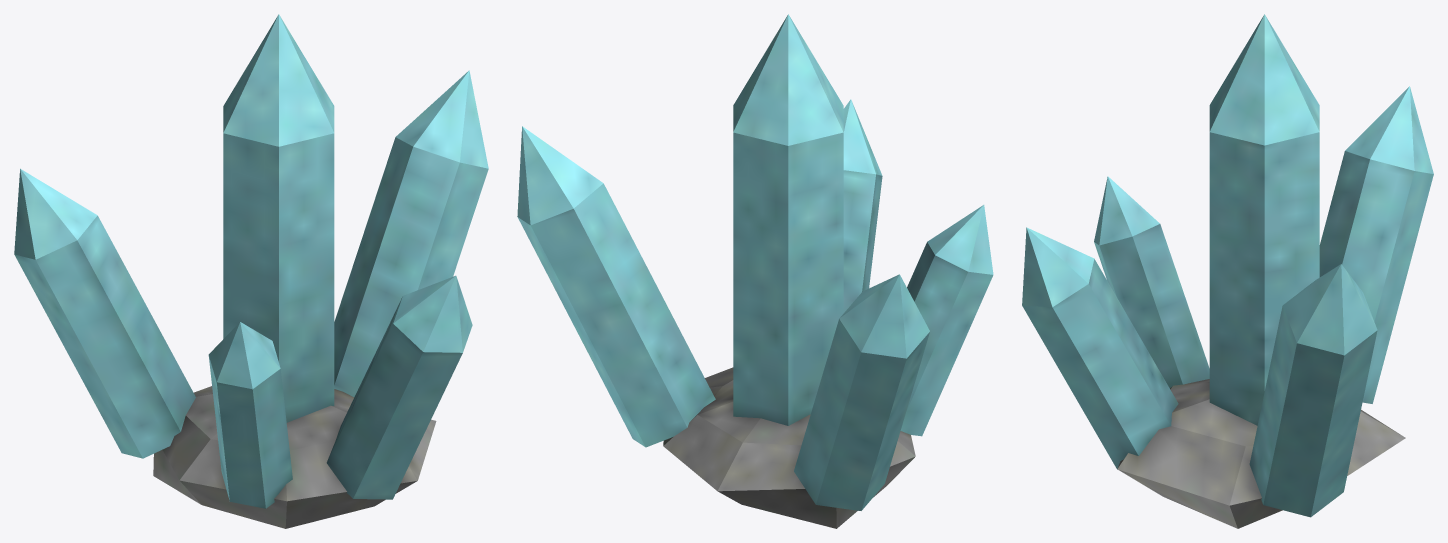
File: SM_Loot_Crystal.fbx
The picture shows the model from 3 angles, left to right: view 1: azimuth 30°, elevation 25°; view 2: azimuth 150°, elevation 25°; view 3: azimuth 270°, elevation 25°; orthographic projection.
Visible parts, largest first — view 1: SM_Loot_Crystal; view 2: SM_Loot_Crystal; view 3: SM_Loot_Crystal.
Boxes of the visible parts, x1,y1,x2,y2 form: SM_Loot_Crystal: [14, 14, 488, 528]; SM_Loot_Crystal: [517, 14, 993, 528]; SM_Loot_Crystal: [1022, 14, 1433, 528].
Size of what is drawn, in the model's own units: 84.21 by 88.85 by 71.31.
2 materials, 2 textured.
